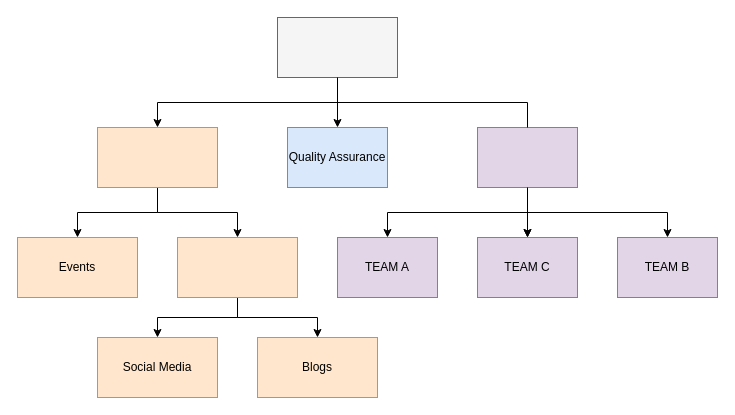
The diagram is 735 pixels wide and 415 high, and some of its shapes have lost their labels. The shapes that lost their labels are listed below. From the top down, each one's centre as x and y in pixels, then its label:
[337,47]: Management
[157,157]: Marketing
[527,157]: Development
[237,267]: Content
